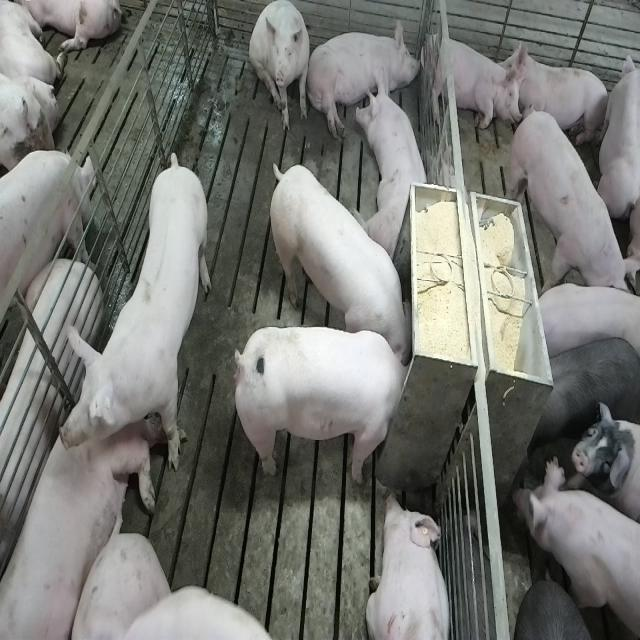Feeding: (265, 160, 411, 362), (239, 324, 418, 485)
Lateral_lying: (306, 16, 422, 140)
Sitting: (250, 2, 312, 134)
Standing: (58, 156, 212, 485), (509, 102, 631, 304), (512, 456, 638, 640), (0, 151, 94, 351), (529, 334, 639, 456), (527, 277, 639, 363)
Sternal_lying: (0, 366, 150, 634), (358, 69, 433, 259), (365, 490, 453, 640), (505, 41, 611, 153), (424, 32, 518, 134)
